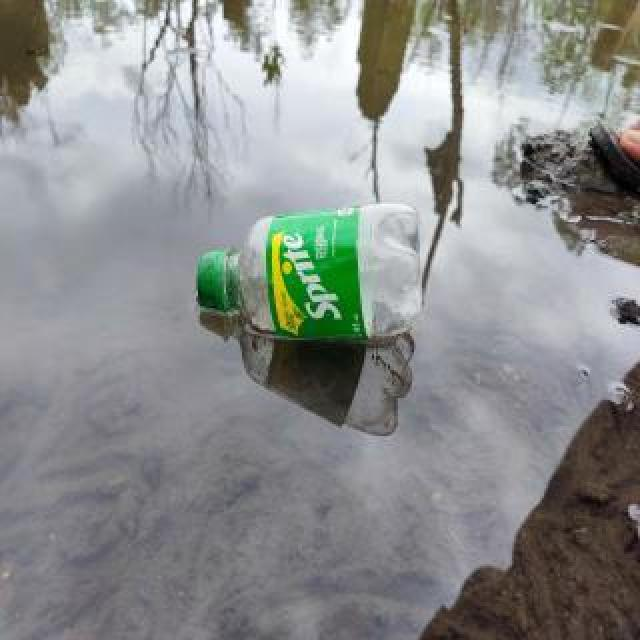bottle: (190, 195, 428, 359)
